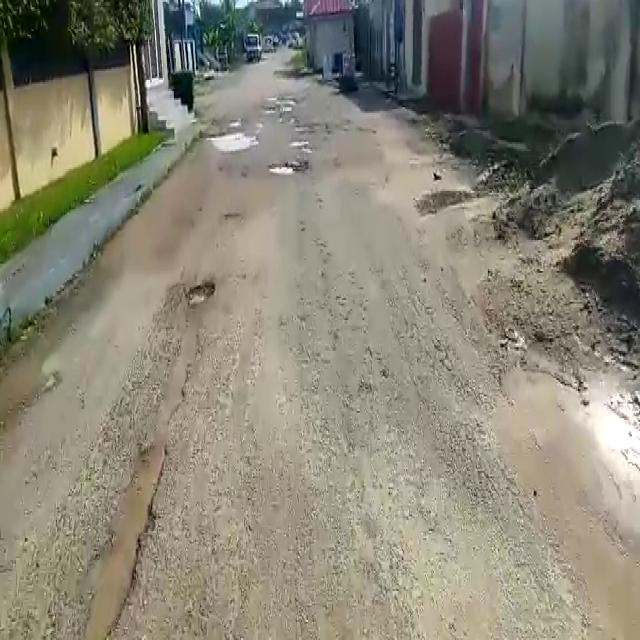Pothole: (208, 126, 256, 152), (185, 280, 215, 306), (268, 160, 303, 176)
